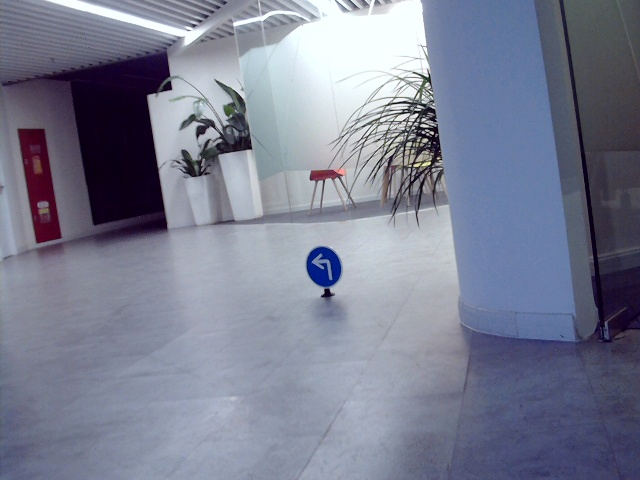turn_left: (309, 251, 334, 278)
